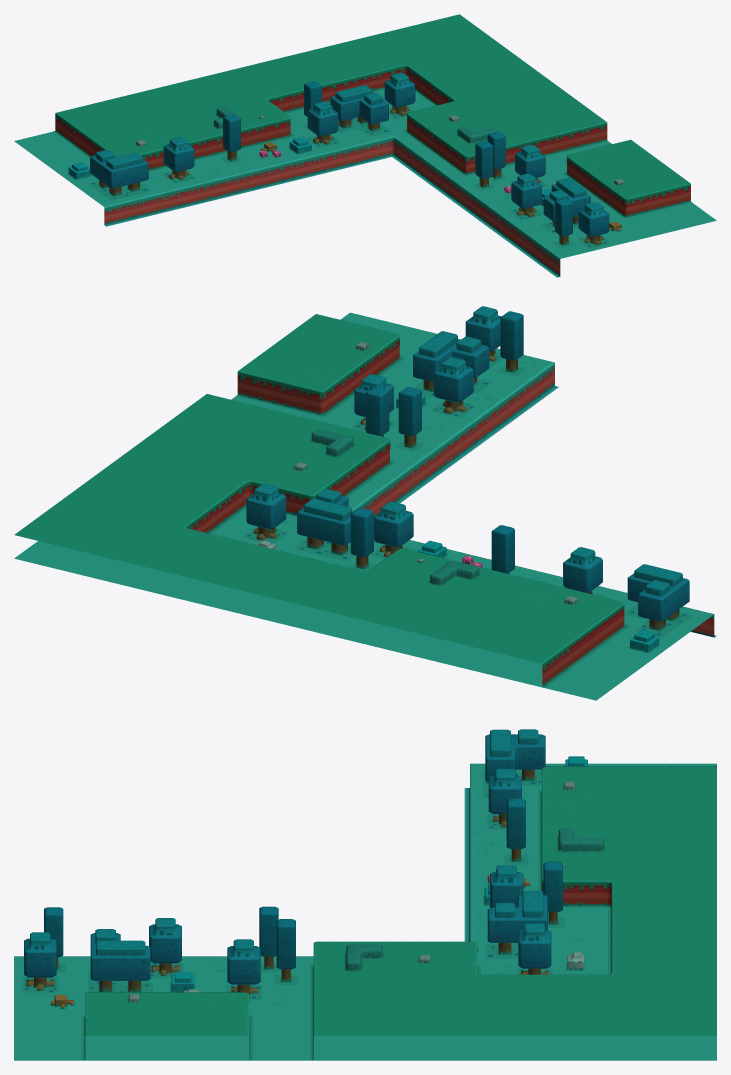
File: C_forest1_out_LD.fbx
3 views of the same model, one above another, from view 1: azimuth 30°, elevation 25°; view 2: azimuth 150°, elevation 25°; view 3: azimuth 270°, elevation 25° (orthographic). The views are drawn at different scales.
Parts seen in each view (by area): view 1: C_forest1_out_LD.001; view 2: C_forest1_out_LD.001; view 3: C_forest1_out_LD.001.
Part boxes in pixels (x1,y1,x2,y2): C_forest1_out_LD.001: (14,14,716,277); C_forest1_out_LD.001: (14,306,716,700); C_forest1_out_LD.001: (14,729,716,1060).
Size of the model in its own units: 117 by 15.19 by 117.
1 material, 1 textured.
